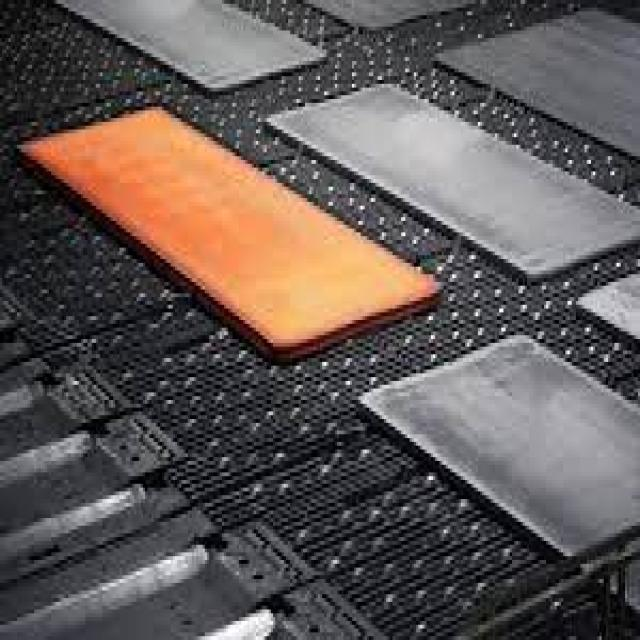Dry: (21, 110, 442, 366), (267, 88, 640, 282), (358, 335, 640, 564)
